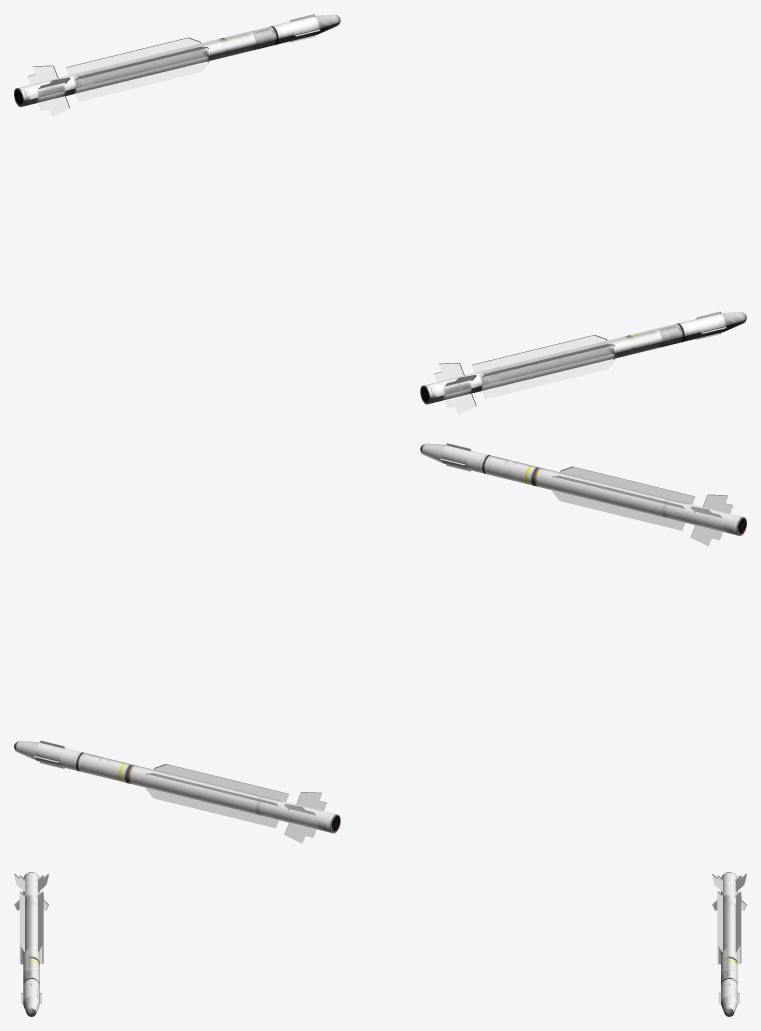
File: rafalemicair29.glb
3 views of the same model, one above another, from view 1: azimuth 30°, elevation 25°; view 2: azimuth 150°, elevation 25°; view 3: azimuth 270°, elevation 25° (orthographic). The views are drawn at different scales.
Parts seen in each view (by area): view 1: 円柱.018, 円柱.017; view 2: 円柱.017, 円柱.018; view 3: 円柱.017, 円柱.018.
Boxes of the visible parts, bbox=[...] form: 円柱.018: bbox=[420, 311, 746, 414]; 円柱.017: bbox=[14, 14, 340, 117]; 円柱.017: bbox=[14, 740, 340, 843]; 円柱.018: bbox=[420, 443, 746, 546]; 円柱.017: bbox=[712, 872, 746, 1016]; 円柱.018: bbox=[14, 872, 48, 1016].
Bounding box in the file's own units: 3.55 × 0.3915 × 8.17.
1 material, 1 textured.
